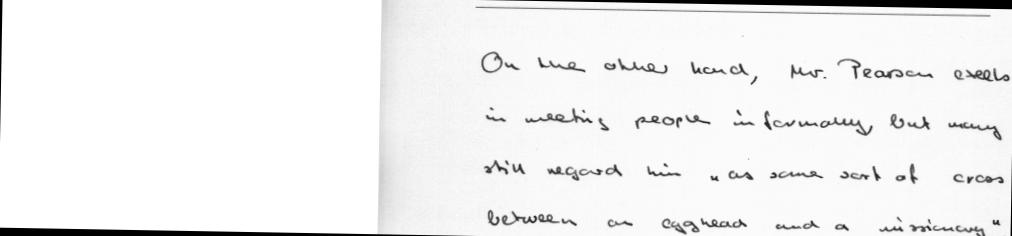text: (478, 47, 1012, 92), (482, 102, 1003, 140), (482, 152, 1004, 189), (482, 206, 1008, 236)
